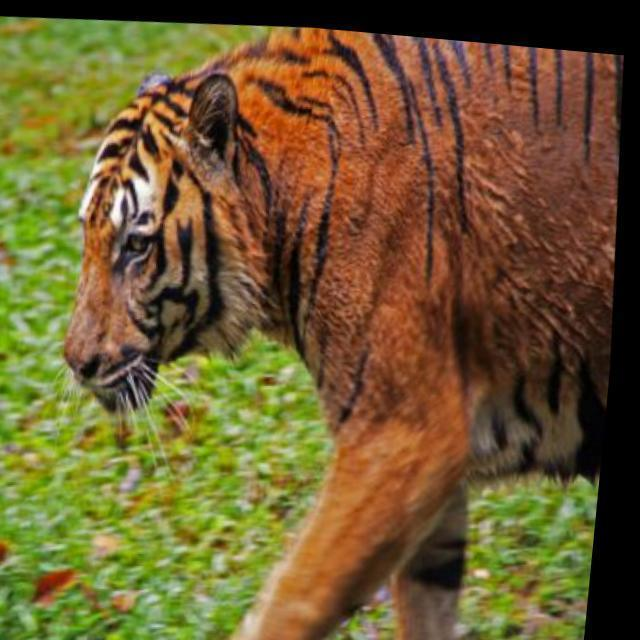tiger: (57, 25, 619, 639)
